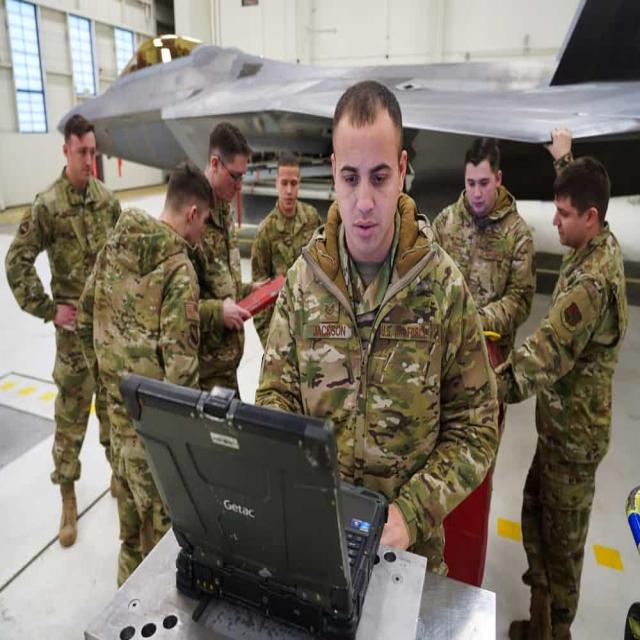MIL_Plane: (56, 1, 640, 257)
